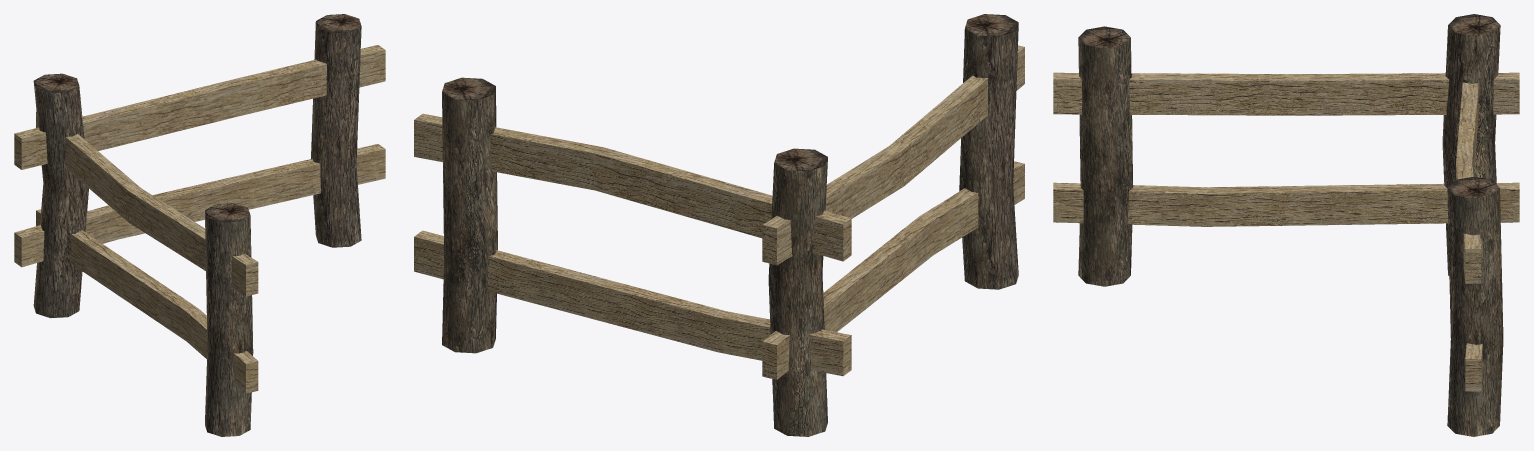
Rendered from woodenFence02.FBX.
The picture shows the model from 3 angles, left to right: view 1: azimuth 30°, elevation 25°; view 2: azimuth 150°, elevation 25°; view 3: azimuth 270°, elevation 25°; orthographic projection. The views are drawn at different scales.
Visible parts, largest first — view 1: wooden_fence_small_corner; view 2: wooden_fence_small_corner; view 3: wooden_fence_small_corner.
Boxes of the visible parts, x1,y1,x2,y2 form: wooden_fence_small_corner: (14, 14, 385, 436); wooden_fence_small_corner: (414, 14, 1024, 436); wooden_fence_small_corner: (1053, 14, 1519, 436).
Bounding box in the file's own units: 254 × 150 × 254.
